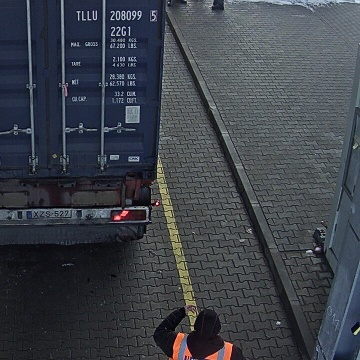serial_id: (76, 10, 156, 20)
